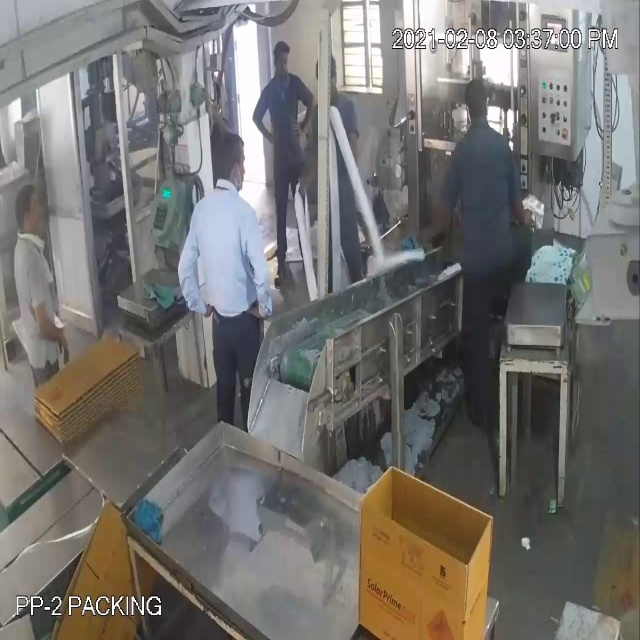Sin_guantes: (238, 220, 275, 321), (28, 297, 78, 371), (171, 226, 208, 324), (248, 98, 286, 163)
